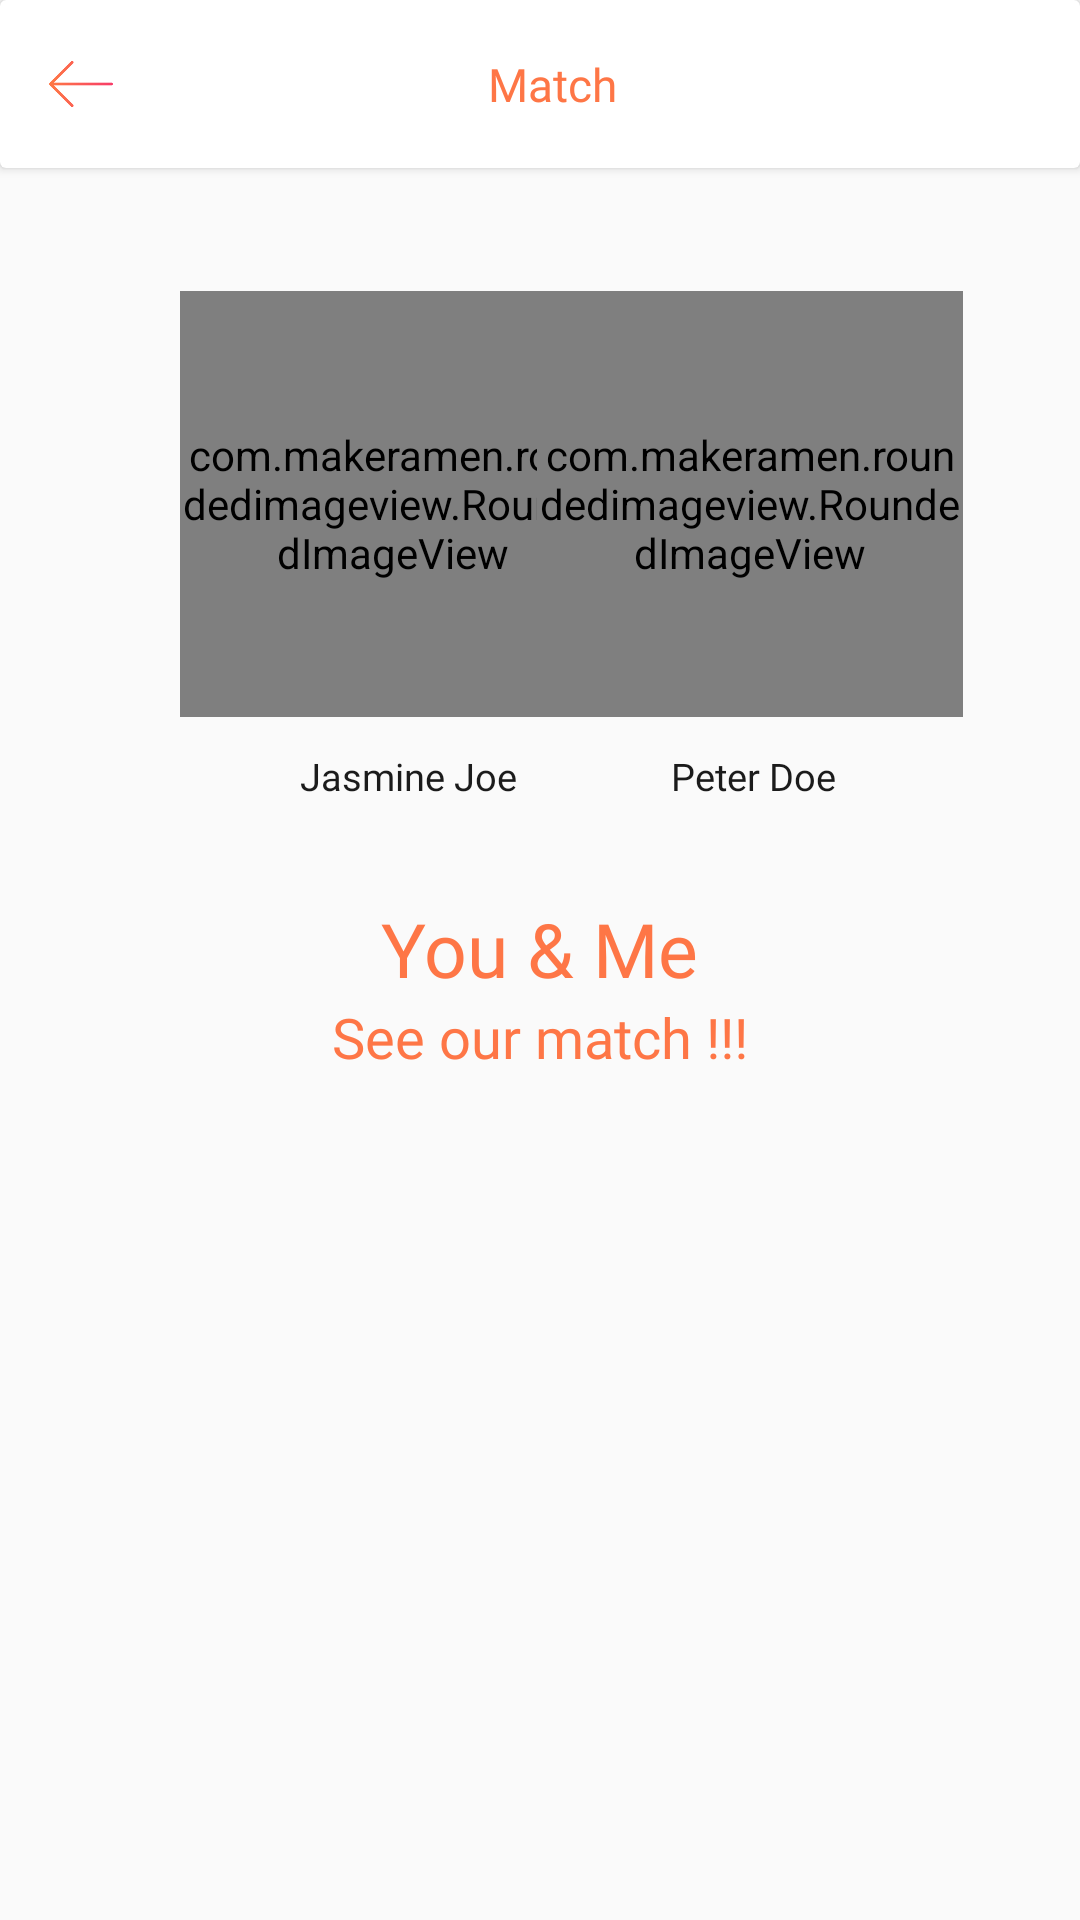

Point at icon controls on the screen. Image size 1080x1920, points as (x=x, y=y).
left arrow: (x=81, y=84)
